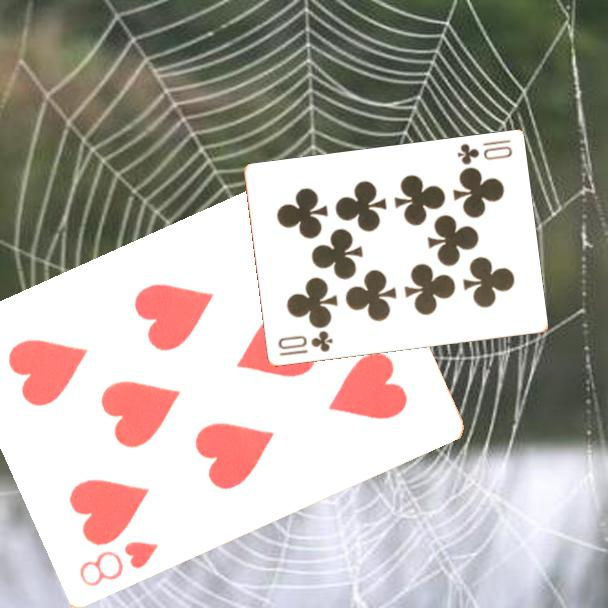c10: (454, 136, 515, 168), (274, 328, 335, 359)
h08: (75, 538, 161, 591)
